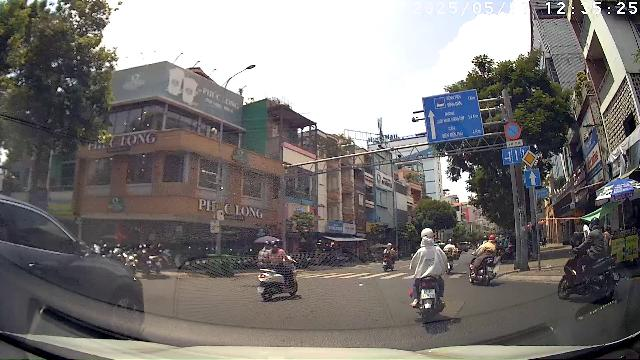131a-cam-do-xe: (504, 122, 521, 139)
